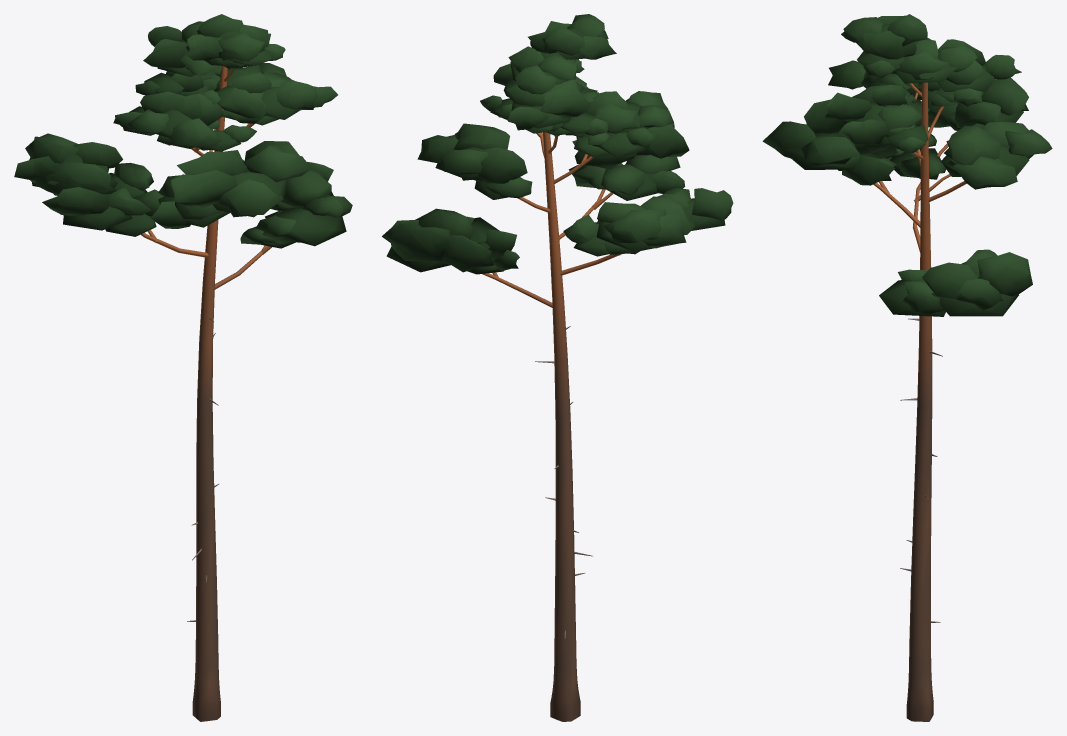
The model's file is pine_a.glb.
3 renders of one model, left to right at view 1: azimuth 30°, elevation 25°; view 2: azimuth 150°, elevation 25°; view 3: azimuth 270°, elevation 25°, orthographic. The views are drawn at different scales.
Parts seen in each view (by area): view 1: LOD0; view 2: LOD0; view 3: LOD0.
Boxes of the visible parts, x1,y1,x2,y2 form: LOD0: (14,14,352,721); LOD0: (382,14,733,721); LOD0: (762,14,1052,721).
Size of what is drawn, in the model's own units: 8.43 by 17.73 by 6.67.
